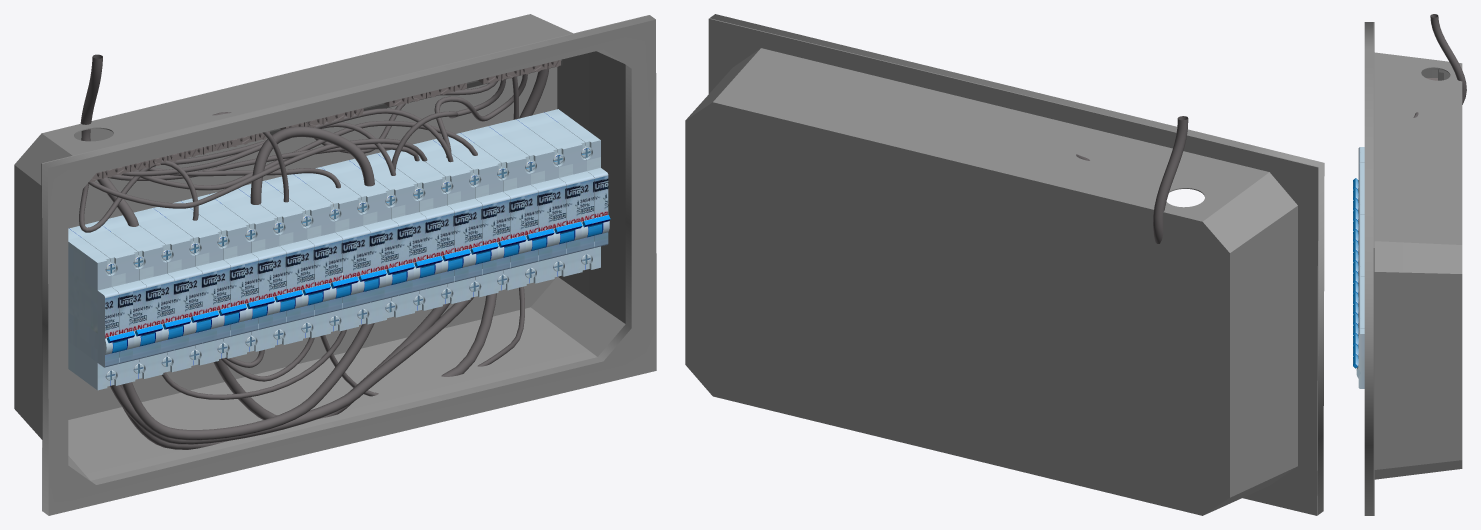
Rendered from field wiring.glb.
3 renders of one model, left to right at view 1: azimuth 30°, elevation 25°; view 2: azimuth 150°, elevation 25°; view 3: azimuth 270°, elevation 25°, orthographic. The views are drawn at different scales.
Parts seen in each view (by area): view 1: Plane.001, MCB.003, BezierCurve.005.000, Cylinder.005; view 2: Plane.001, BezierCurve.005.000; view 3: Plane.001, MCB.003, BezierCurve.005.000.
Boxes of the visible parts, bbox=[...] form: Plane.001: bbox=[14, 14, 656, 515]; MCB.003: bbox=[68, 109, 610, 390]; BezierCurve.005.000: bbox=[79, 54, 548, 449]; Cylinder.005: bbox=[89, 59, 562, 181]; Plane.001: bbox=[685, 14, 1324, 515]; BezierCurve.005.000: bbox=[1076, 116, 1188, 243]; Plane.001: bbox=[1364, 22, 1462, 515]; MCB.003: bbox=[1353, 147, 1364, 388]; BezierCurve.005.000: bbox=[1413, 14, 1466, 117].
Bounding box in the file's own units: 5.3 × 3.38 × 1.12.
Materials: 7 (1 with a texture image).
